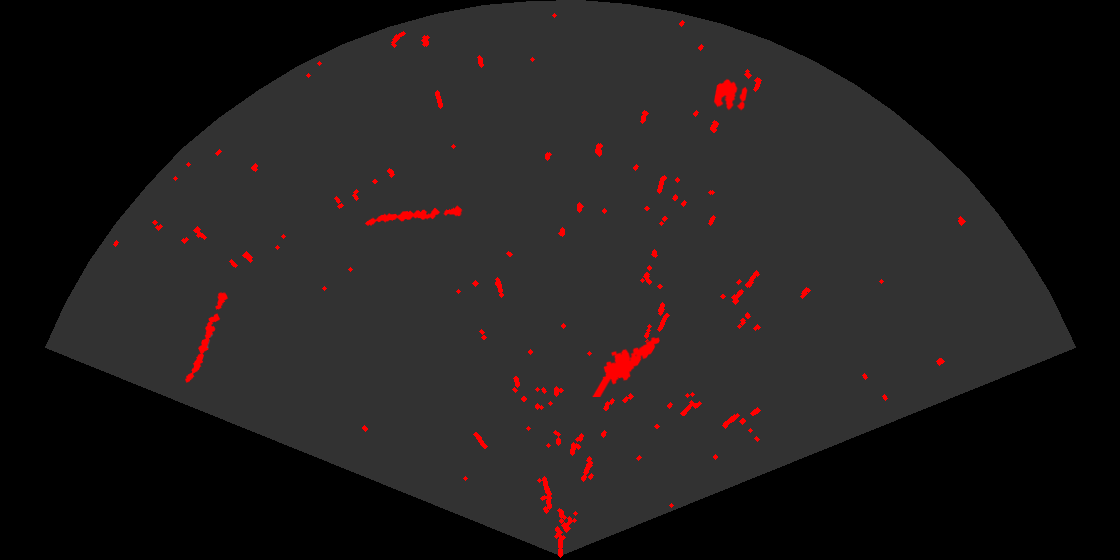ball: (712, 77, 749, 112)
chain: (184, 290, 229, 384), (363, 204, 464, 227)
frogman: (592, 336, 661, 397)
